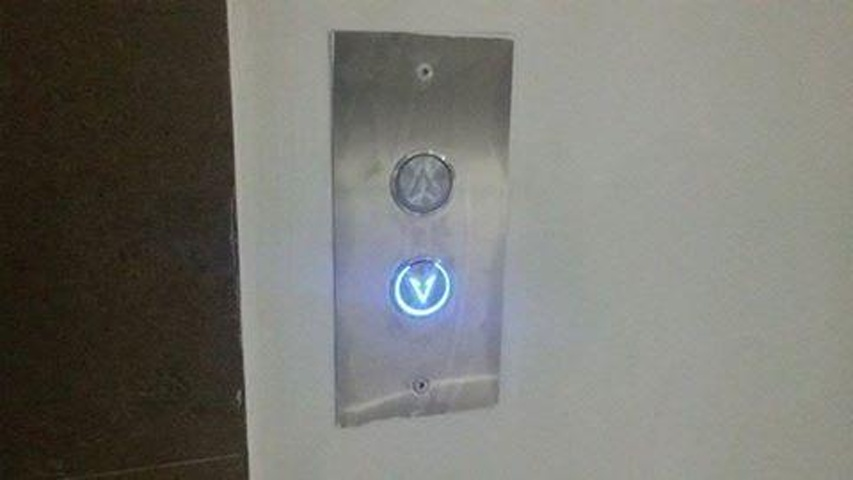down: (389, 256, 454, 320)
up: (390, 148, 454, 219)
